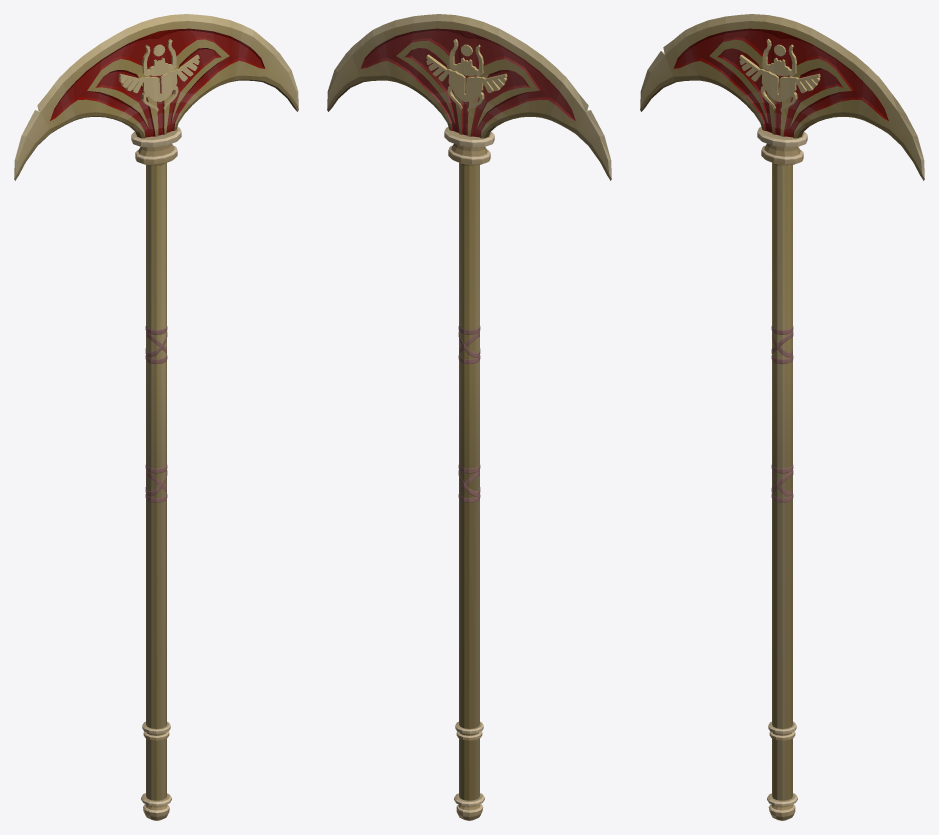
Rendered from pokeHeavyAncientEgyptianFanAxe.glb.
The picture shows the model from 3 angles, left to right: view 1: azimuth 30°, elevation 25°; view 2: azimuth 150°, elevation 25°; view 3: azimuth 330°, elevation 25°; orthographic projection.
Parts seen in each view (by area): view 1: pokeHeavyAncientEgyptianFanAxe; view 2: pokeHeavyAncientEgyptianFanAxe; view 3: pokeHeavyAncientEgyptianFanAxe.
Boxes of the visible parts, bbox=[...] form: pokeHeavyAncientEgyptianFanAxe: bbox=[14, 14, 298, 820]; pokeHeavyAncientEgyptianFanAxe: bbox=[327, 14, 611, 820]; pokeHeavyAncientEgyptianFanAxe: bbox=[640, 14, 924, 820].
Size of the model in its own units: 0.7143 by 1.92 by 0.0864.
